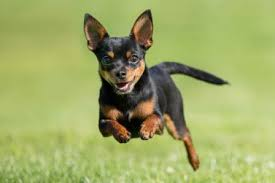chihuahua: (73, 7, 235, 170)
